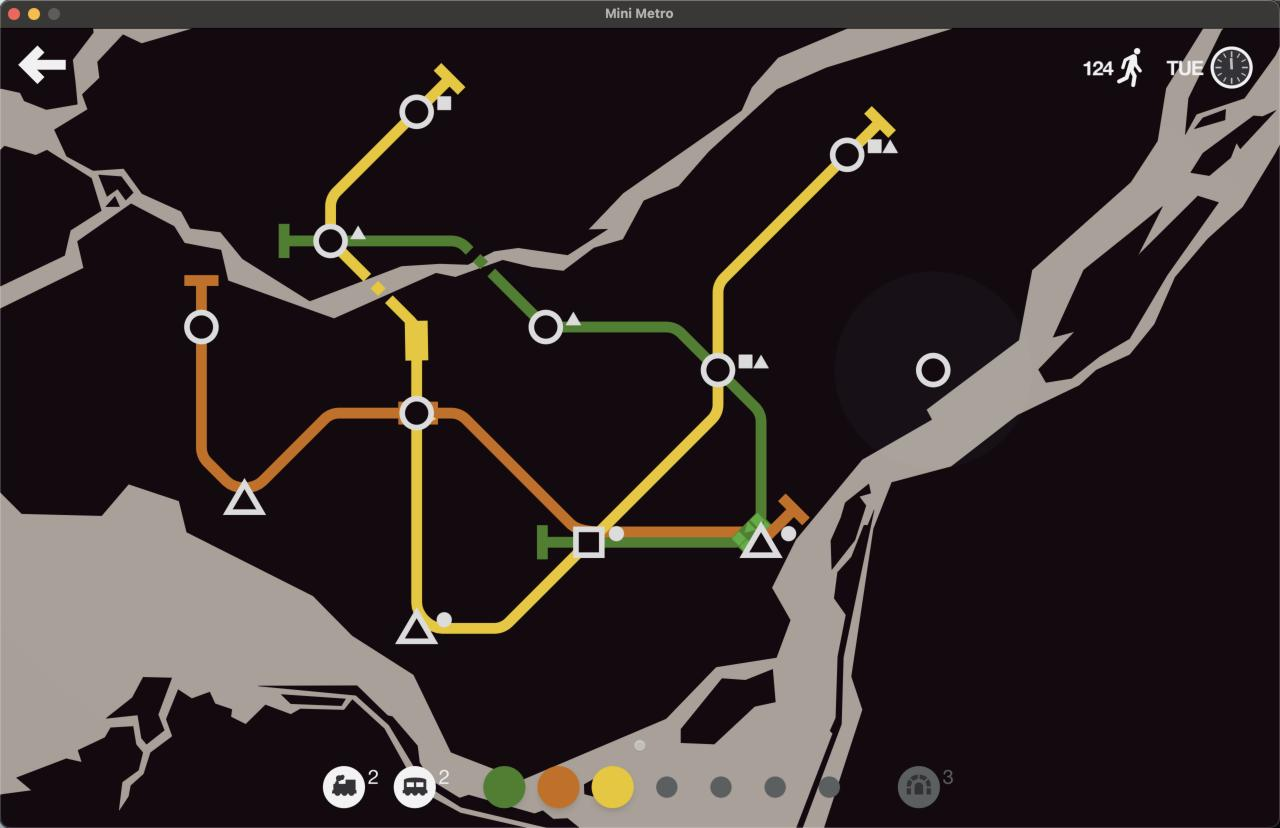CIRCLE: (828, 135, 867, 172), (527, 308, 565, 345), (914, 352, 952, 388), (398, 395, 436, 431), (700, 352, 737, 388), (398, 93, 434, 129), (313, 222, 349, 258), (184, 309, 220, 345)
SQUARE: (572, 525, 605, 559)
TRIANGLE: (222, 476, 267, 517), (740, 519, 783, 560), (394, 607, 438, 645)
